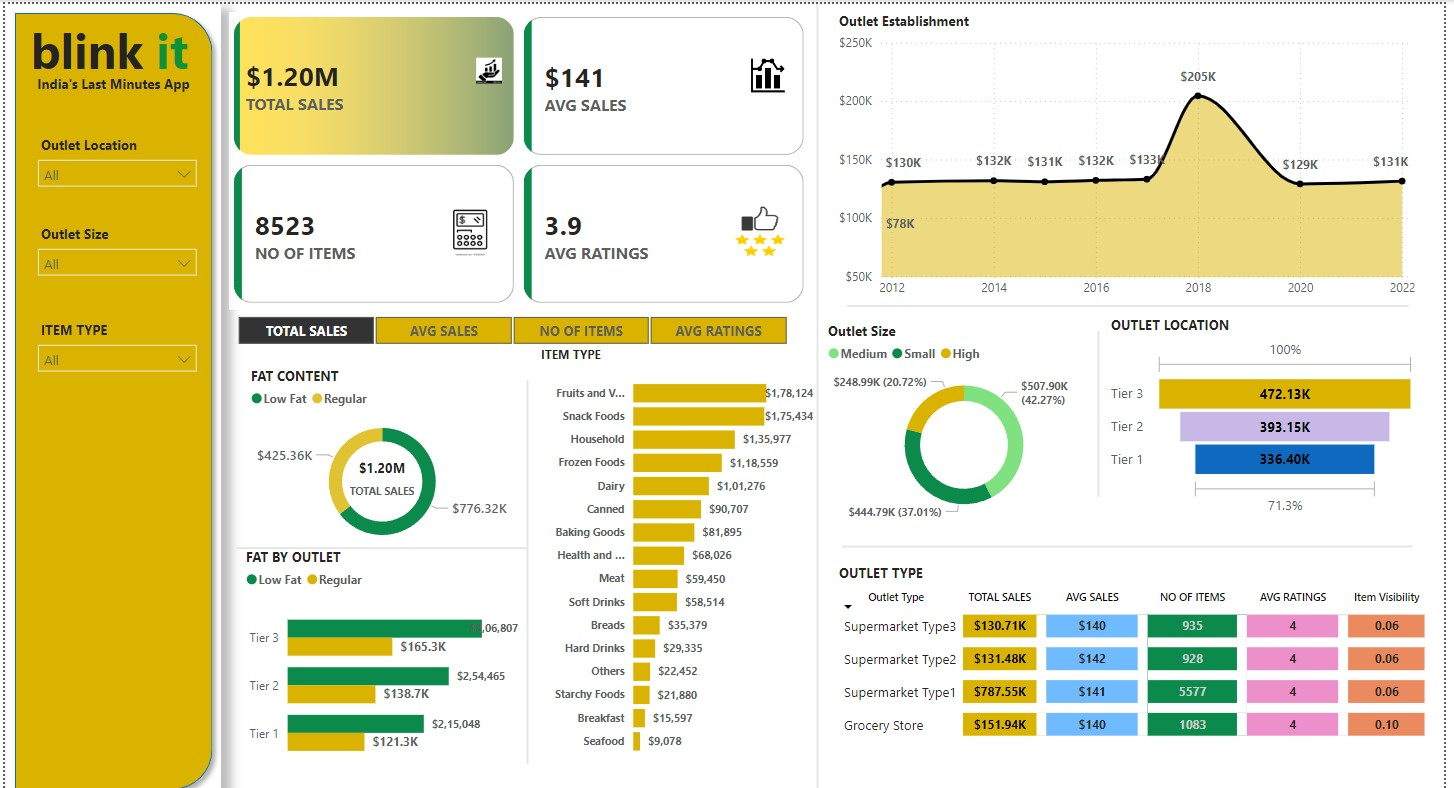

This screenshot's page, from the dashboard's own definition file:
{"tool":"powerbi","page":{"name":"Page 1","canvas":[1450,800],"ordinal":0},"visuals":[{"type":"shape","box":[1.1,0,216.9,800.4],"z":0},{"type":"textbox","box":[1,8.1,208.6,77.6],"z":1000},{"type":"textbox","box":[1,66.5,216.6,36.3],"z":2000},{"type":"cardVisual","fields":{"Data":["Key Measure (2).TOTAL SALES","Key Measure (2).AVG SALES","Key Measure (2).NO OF ITEMS","Key Measure (2).AVG RATINGS"]},"box":[226,7.7,585.4,299.8],"z":3000},{"type":"donutChart","title":"FAT CONTENT","fields":{"Y":["Key Measure (2).TOTAL SALES"],"Category":["BlinkIT Grocery Data.Item Fat Content"]},"box":[242.5,366,274.5,190.7],"z":4000},{"type":"slicer","fields":{"Values":["Matrics.Matrics"]},"box":[209.6,308.3,601.5,35.3],"z":5000},{"type":"textbox","box":[1380.4,8.1,20.2,357.7],"z":6000},{"type":"cardVisual","fields":{"Data":["Key Measure (2).TOTAL SALES"]},"box":[315.1,428.1,129,100.5],"z":7000},{"type":"clusteredBarChart","title":"FAT BY OUTLET","fields":{"Y":["Key Measure (2).TOTAL SALES"],"Series":["BlinkIT Grocery Data.Item Fat Content"],"Category":["BlinkIT Grocery Data.Outlet Location Type"]},"box":[237.5,548,284.3,230.6],"z":8000},{"type":"shape","box":[232.6,522.5,294.3,50.7],"z":9000},{"type":"shape","box":[497.2,379.2,59.5,386.9],"z":10000},{"type":"barChart","title":"ITEM TYPE","fields":{"Y":["Key Measure (2).TOTAL SALES"],"Category":["BlinkIT Grocery Data.Item Type"]},"box":[535,344.6,284.1,422.2],"z":11000},{"type":"lineChart","title":"Outlet Establishment","fields":{"Y":["Key Measure (2).TOTAL SALES"],"Category":["BlinkIT Grocery Data.Outlet Establishment Year"]},"box":[835.3,8.1,590.4,296.2],"z":12000},{"type":"shape","box":[785.9,0,65.5,800],"z":13000},{"type":"shape","box":[848.4,279.1,566.2,50.4],"z":14000},{"type":"donutChart","title":"Outlet Size","fields":{"Y":["Key Measure (2).TOTAL SALES"],"Category":["BlinkIT Grocery Data.Outlet Size"]},"box":[824.2,320.4,284.1,207.6],"z":15000},{"type":"funnel","title":"OUTLET LOCATION","fields":{"Category":["BlinkIT Grocery Data.Outlet Location Type"],"Y":["Sum(BlinkIT Grocery Data.Sales)"]},"box":[1109.2,314.8,316.8,205.9],"z":16000},{"type":"shape","box":[1072,329.5,59.4,167.3],"z":17000},{"type":"shape","box":[843.3,520.9,575.3,51.4],"z":18000},{"type":"pivotTable","title":"OUTLET TYPE","fields":{"Values":["Key Measure (2).TOTAL SALES","Key Measure (2).AVG SALES","Key Measure (2).NO OF ITEMS","Key Measure (2).AVG RATINGS","Avg(BlinkIT Grocery Data.Item Visibility)"],"Rows":["BlinkIT Grocery Data.Outlet Type"]},"box":[835.3,564.2,605.5,213.6],"z":19000},{"type":"slicer","fields":{"Values":["BlinkIT Grocery Data.Outlet Location Type"]},"box":[23,127.9,179.9,72.9],"z":20000},{"type":"slicer","fields":{"Values":["BlinkIT Grocery Data.Outlet Size"]},"box":[23,217.8,179.9,72.9],"z":21000},{"type":"slicer","fields":{"Values":["BlinkIT Grocery Data.Item Type"]},"box":[23.4,314.8,179.9,73.1],"z":22000}]}

Visuals, with their boxes in screenshot pixels (x1, y1, x2, y2), scaled from the page's 1450x800 canvas onto the 1454x788 screenshot:
shape: box(1, 0, 219, 787)
textbox: box(1, 8, 210, 84)
textbox: box(1, 66, 218, 101)
cardVisual - Key Measure (2).TOTAL SALES x Key Measure (2).AVG SALES: box(227, 8, 814, 303)
"FAT CONTENT" donutChart: box(243, 361, 518, 548)
slicer - Matrics.Matrics: box(210, 304, 813, 338)
textbox: box(1384, 8, 1404, 360)
cardVisual - Key Measure (2).TOTAL SALES: box(316, 422, 445, 521)
"FAT BY OUTLET" clusteredBarChart: box(238, 540, 523, 767)
shape: box(233, 515, 528, 565)
shape: box(499, 374, 558, 755)
"ITEM TYPE" barChart: box(536, 339, 821, 755)
"Outlet Establishment" lineChart: box(838, 8, 1430, 300)
shape: box(788, 0, 854, 787)
shape: box(851, 275, 1419, 325)
"Outlet Size" donutChart: box(826, 316, 1111, 520)
"OUTLET LOCATION" funnel: box(1112, 310, 1430, 513)
shape: box(1075, 325, 1135, 489)
shape: box(846, 513, 1423, 564)
"OUTLET TYPE" pivotTable: box(838, 556, 1445, 766)
slicer - BlinkIT Grocery Data.Outlet Location Type: box(23, 126, 203, 198)
slicer - BlinkIT Grocery Data.Outlet Size: box(23, 215, 203, 286)
slicer - BlinkIT Grocery Data.Item Type: box(23, 310, 204, 382)
